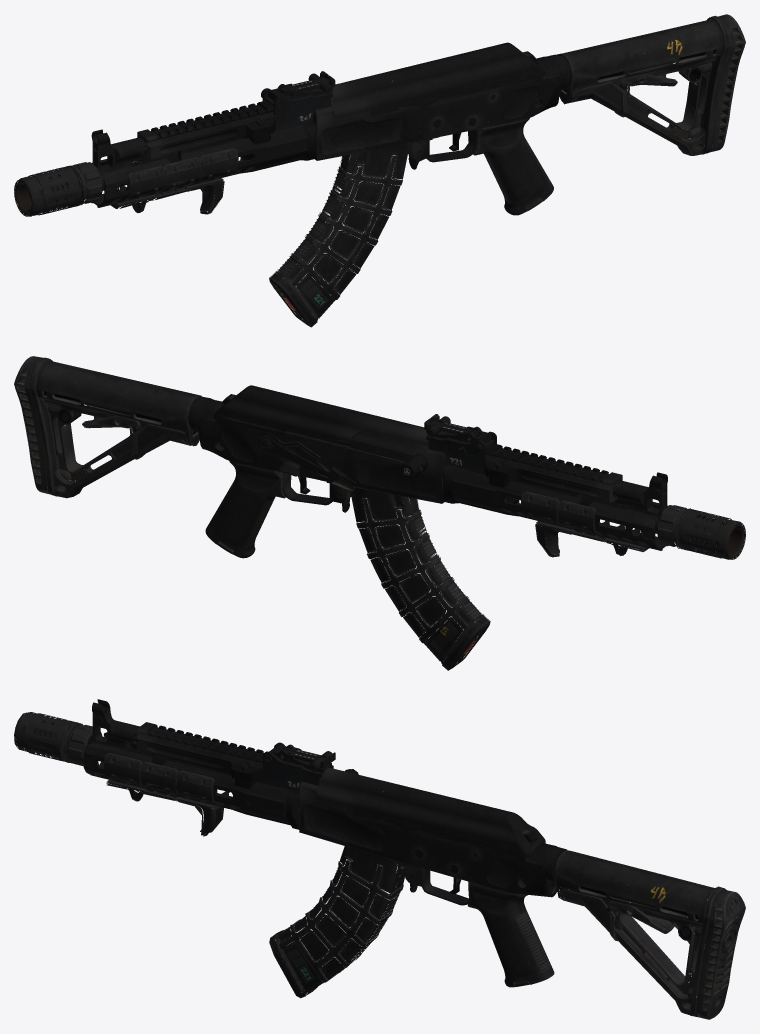
File: weapon_akg.glb
3 renders of one model, top to bottom at view 1: azimuth 30°, elevation 25°; view 2: azimuth 150°, elevation 25°; view 3: azimuth 330°, elevation 25°, orthographic.
Parts seen in each view (by area): view 1: stock_akg, magazine_akg, main_frame_akg, rail_akg, receiver_akg, handguard_akg, grip_akg, lower_handguard_akg, barrel_akg; view 2: stock_akg, magazine_akg, main_frame_akg, rail_akg, receiver_akg, handguard_akg, grip_akg, barrel_akg, lower_handguard_akg, recoil_spring_guide_akg; view 3: stock_akg, main_frame_akg, magazine_akg, receiver_akg, rail_akg, grip_akg, handguard_akg, lower_handguard_akg, barrel_akg.
Boxes of the visible parts, x1,y1,x2,y2 form: stock_akg: (549,14,745,155); magazine_akg: (269,143,410,327); main_frame_akg: (307,56,561,169); rail_akg: (91,71,335,190); receiver_akg: (330,42,544,118); handguard_akg: (91,122,317,207); grip_akg: (468,118,553,215); lower_handguard_akg: (111,148,238,214); barrel_akg: (14,121,312,216); stock_akg: (14,356,211,498); magazine_akg: (351,487,490,670); main_frame_akg: (197,398,451,512); rail_akg: (424,414,667,533); receiver_akg: (214,385,428,445); handguard_akg: (442,465,668,550); grip_akg: (205,461,291,558); barrel_akg: (446,464,745,559); lower_handguard_akg: (521,491,648,557); recoil_spring_guide_akg: (339,430,486,478); stock_akg: (544,847,745,1019); main_frame_akg: (299,781,557,905); magazine_akg: (269,846,404,998); receiver_akg: (316,767,545,858); rail_akg: (92,699,335,791); grip_akg: (467,881,554,987); handguard_akg: (83,732,299,829); lower_handguard_akg: (103,753,223,836); barrel_akg: (14,712,299,792).
Size of the model in its own units: 83.95 by 27.36 by 7.54.
Materials: 6 (6 with a texture image).
